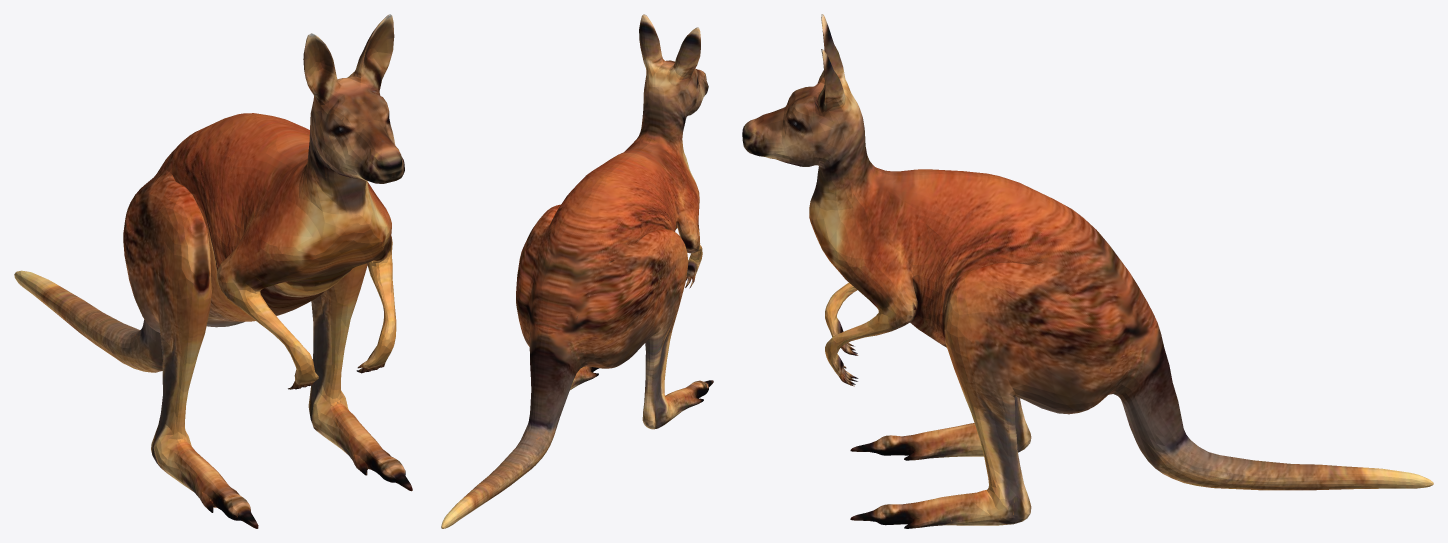
The model's file is Kangaroo.fbx.
3 renders of one model, left to right at view 1: azimuth 30°, elevation 25°; view 2: azimuth 150°, elevation 25°; view 3: azimuth 270°, elevation 25°, orthographic. The views are drawn at different scales.
Parts seen in each view (by area): view 1: Kangaroo_FBX; view 2: Kangaroo_FBX; view 3: Kangaroo_FBX.
Part boxes in pixels (x1=…): Kangaroo_FBX: x1=14, y1=14, x2=412, y2=528; Kangaroo_FBX: x1=441, y1=14, x2=713, y2=528; Kangaroo_FBX: x1=742, y1=14, x2=1433, y2=528.
Size of the model in its own units: 197 by 476 by 652.
